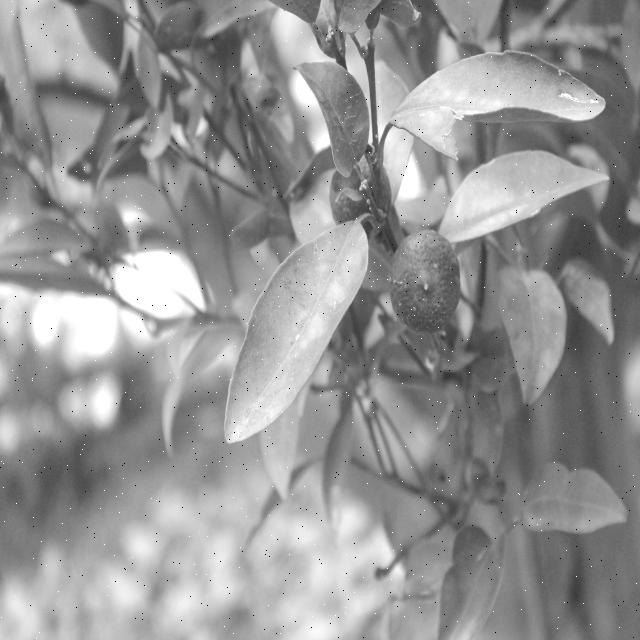blackspot: (220, 235, 356, 439)
